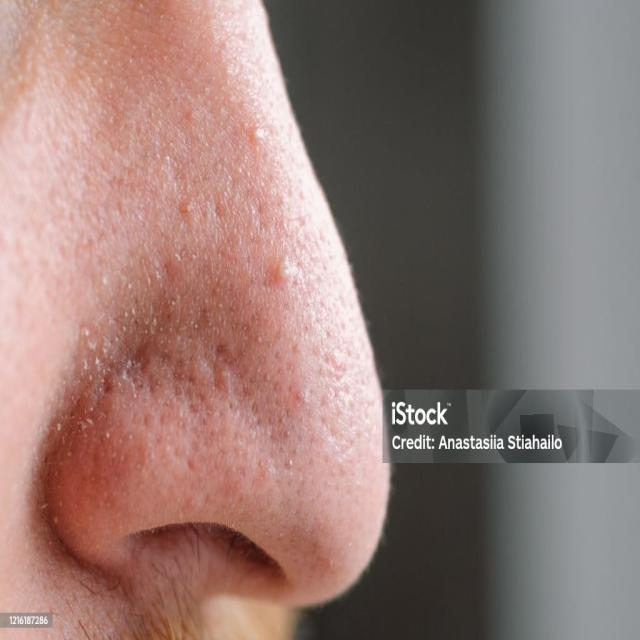whitehead: (29, 175, 179, 570)
